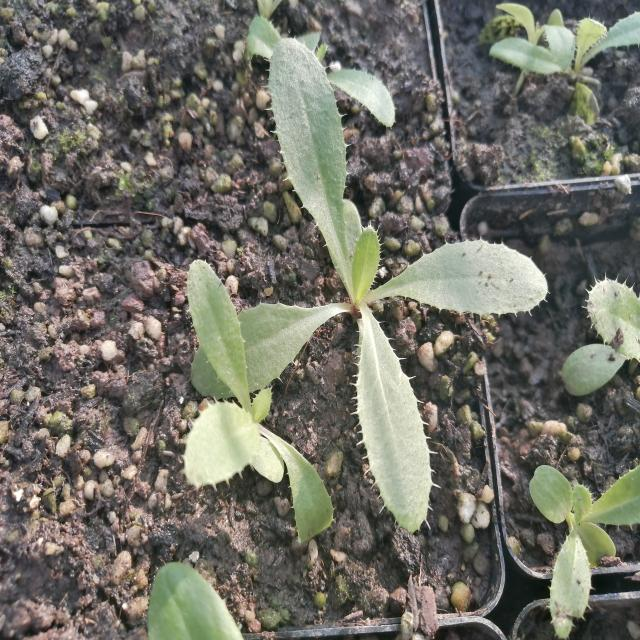field_thistle: (184, 43, 469, 534)
